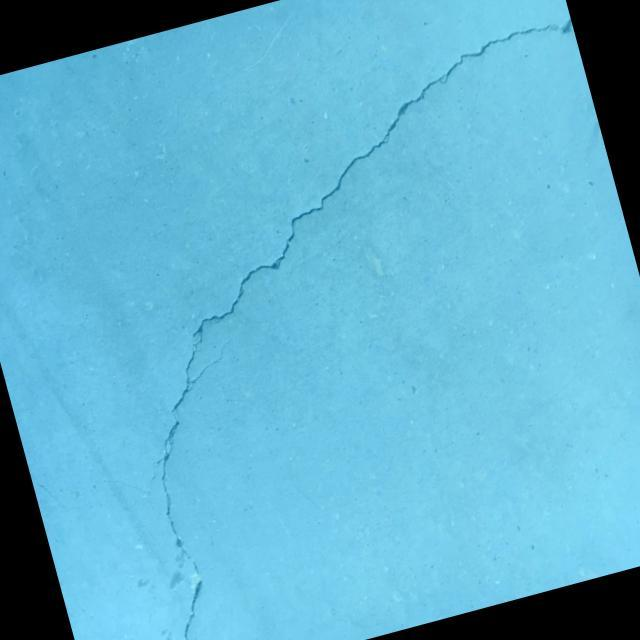crack: (17, 17, 640, 640), (30, 467, 64, 512)
